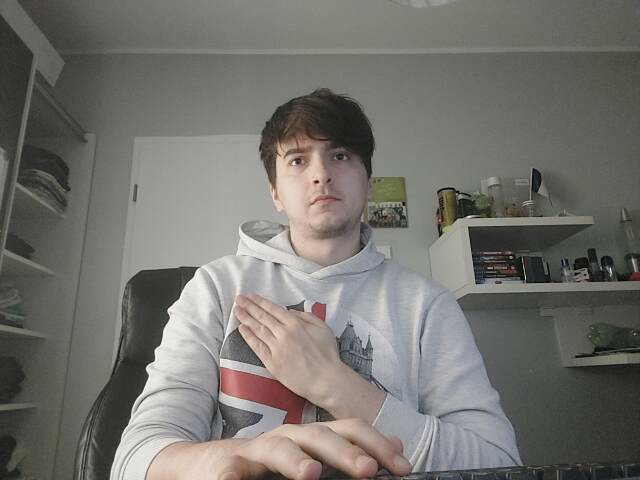please: (234, 291, 343, 394)
